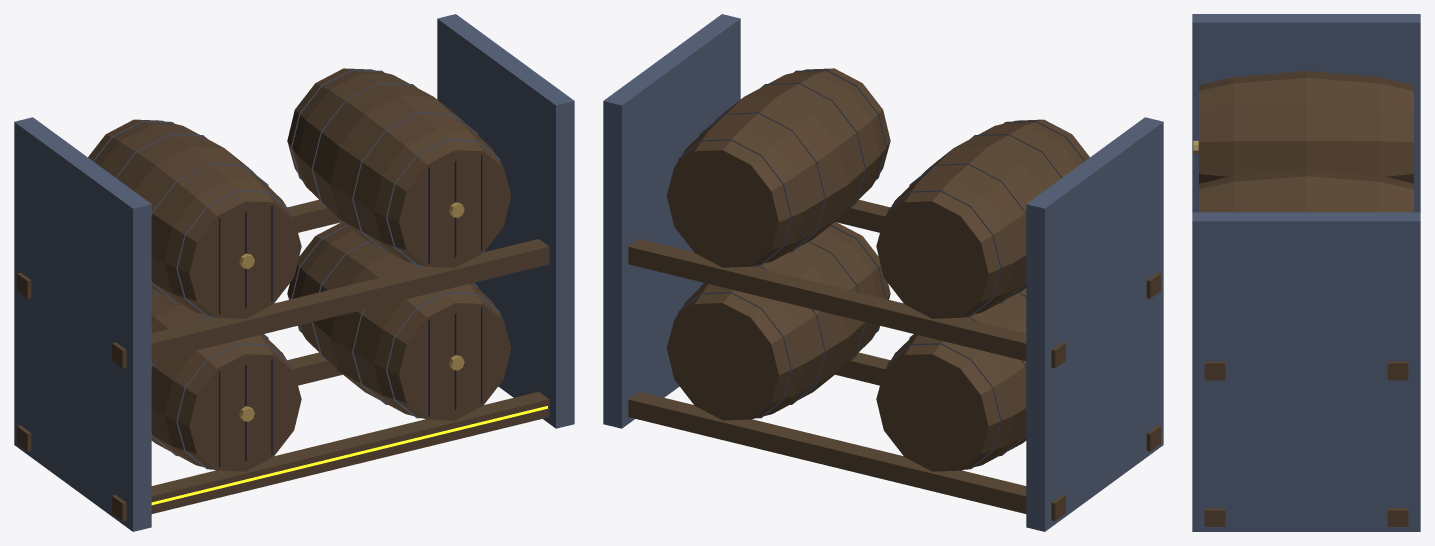
Rendered from res_wine_barrel_rack.glb.
The picture shows the model from 3 angles, left to right: view 1: azimuth 30°, elevation 25°; view 2: azimuth 150°, elevation 25°; view 3: azimuth 270°, elevation 25°; orthographic projection. The views are drawn at different scales.
Visible parts, largest first — view 1: oak_barrel, barrel_hoop, end_stave, rack_light, barrel_bung; view 2: oak_barrel, barrel_hoop; view 3: barrel_hoop, oak_barrel.
Part boxes in pixels (box(x1,y1,x2,y2)): oak_barrel: box(17, 68, 549, 520); barrel_hoop: box(14, 14, 574, 531); end_stave: box(219, 154, 482, 467); rack_light: box(151, 406, 547, 505); barrel_bung: box(239, 202, 464, 421); oak_barrel: box(628, 68, 1160, 520); barrel_hoop: box(603, 14, 1163, 531); barrel_hoop: box(1192, 14, 1420, 531); oak_barrel: box(1199, 71, 1413, 526).
Size of the model in its own units: 2.4 by 1.65 by 1.1.
